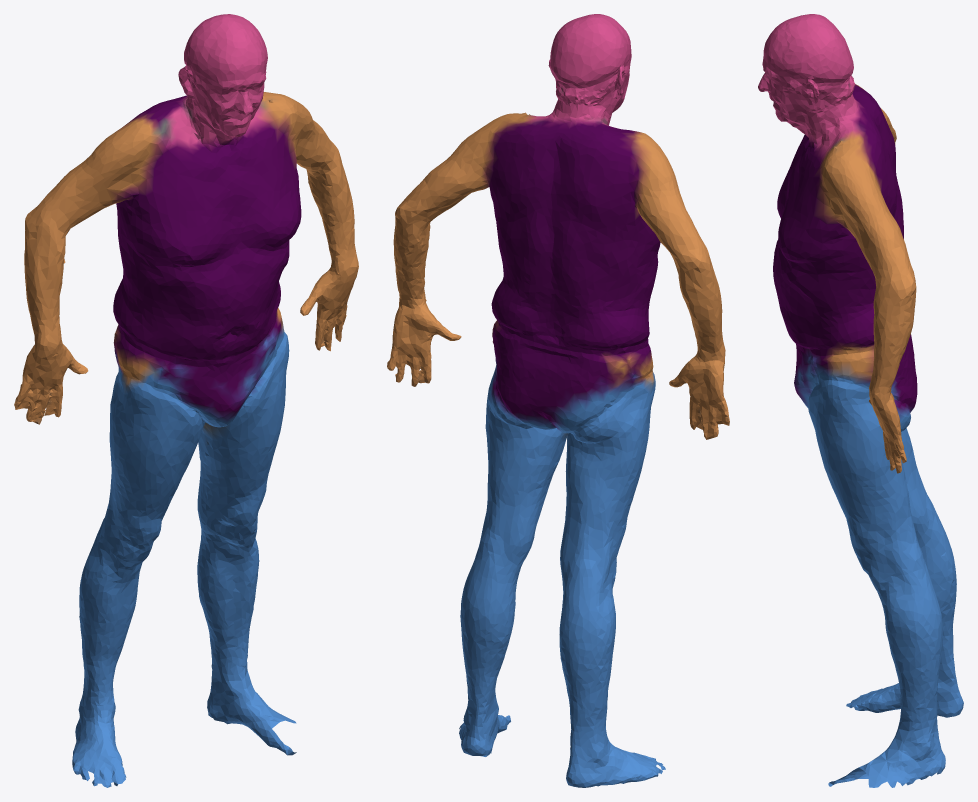
3 renders of one model, left to right at view 1: azimuth 30°, elevation 25°; view 2: azimuth 150°, elevation 25°; view 3: azimuth 270°, elevation 25°, orthographic. The views are drawn at different scales.
Parts seen in each view (by area): view 1: geometry_0.003; view 2: geometry_0.003; view 3: geometry_0.003.
Part boxes in pixels (box(x1,y1,x2,y2)): geometry_0.003: box(14, 14, 358, 787); geometry_0.003: box(387, 14, 729, 787); geometry_0.003: box(758, 14, 963, 787).
Bounding box in the file's own units: 0.8627 × 1.8 × 0.4587.
